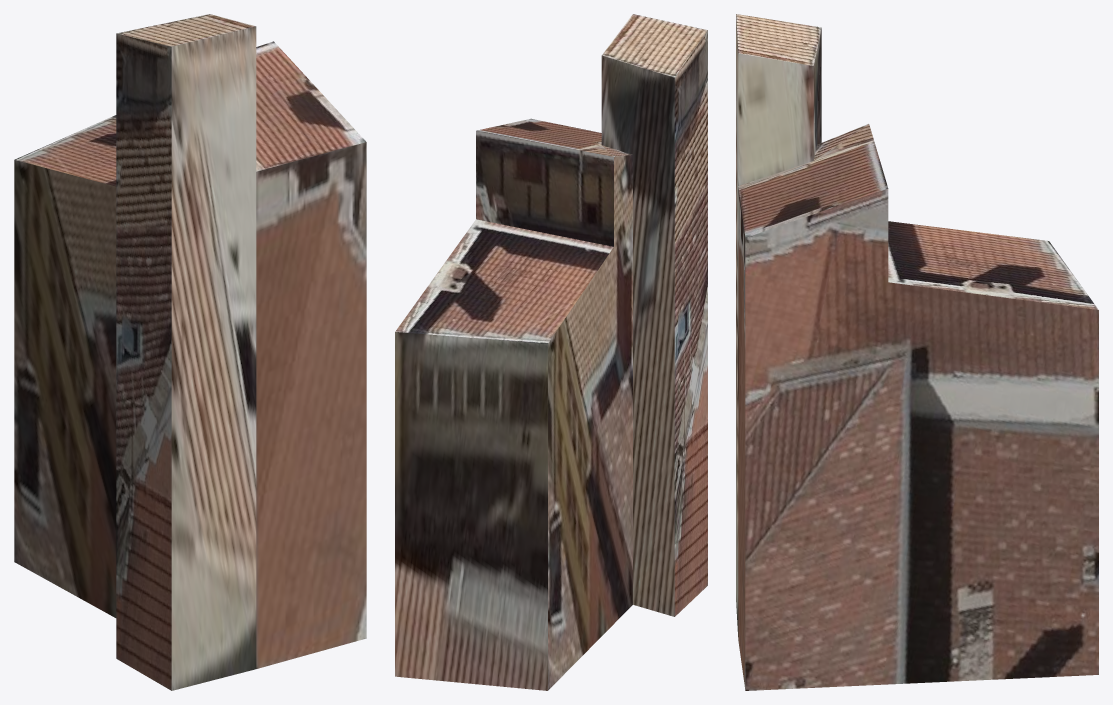
3 renders of one model, left to right at view 1: azimuth 30°, elevation 25°; view 2: azimuth 150°, elevation 25°; view 3: azimuth 270°, elevation 25°, orthographic. The views are drawn at different scales.
Visible parts, largest first — view 1: Z_UP; view 2: Z_UP; view 3: Z_UP.
Boxes of the visible parts, x1,y1,x2,y2 form: Z_UP: [14, 14, 366, 690]; Z_UP: [395, 14, 707, 690]; Z_UP: [736, 14, 1098, 690].
Size of the model in its own units: 7.71 by 22.76 by 12.73.
2 materials, 1 textured.
